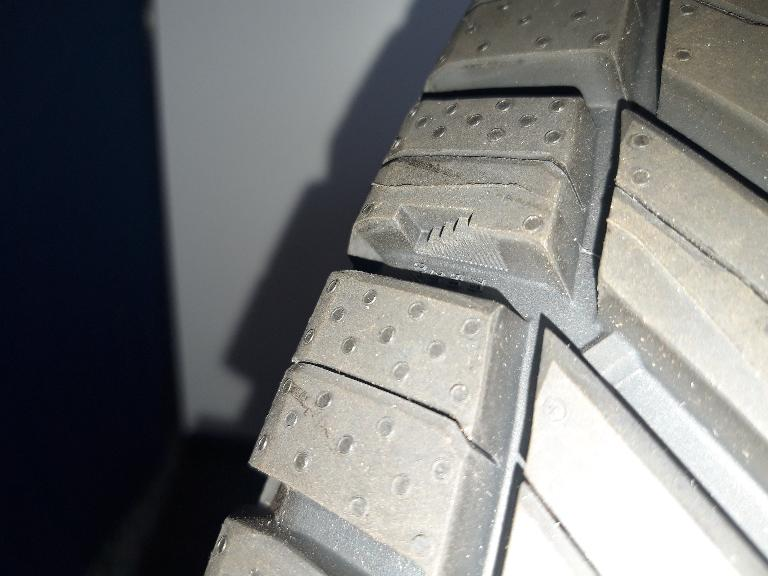temoin:100: (392, 202, 510, 274)
